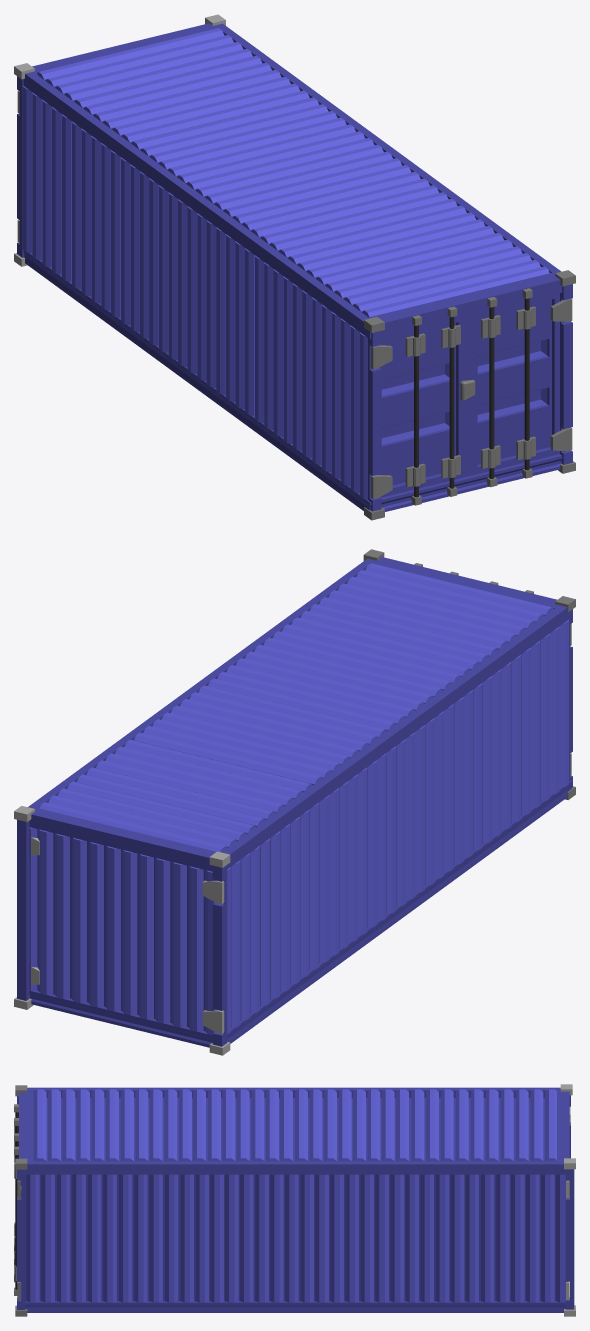
File: conteneur.fbx
The picture shows the model from 3 angles, top to bottom: view 1: azimuth 30°, elevation 25°; view 2: azimuth 150°, elevation 25°; view 3: azimuth 270°, elevation 25°; orthographic projection. The views are drawn at different scales.
Visible parts, largest first — view 1: pCube75; view 2: pCube75; view 3: pCube75.
Boxes of the visible parts, left/top/right/bottom form: pCube75: left=14, top=14, right=575, bottom=520; pCube75: left=14, top=549, right=575, bottom=1055; pCube75: left=14, top=1084, right=575, bottom=1316.
Size of the model in its own units: 2.02 by 1.82 by 6.05.
